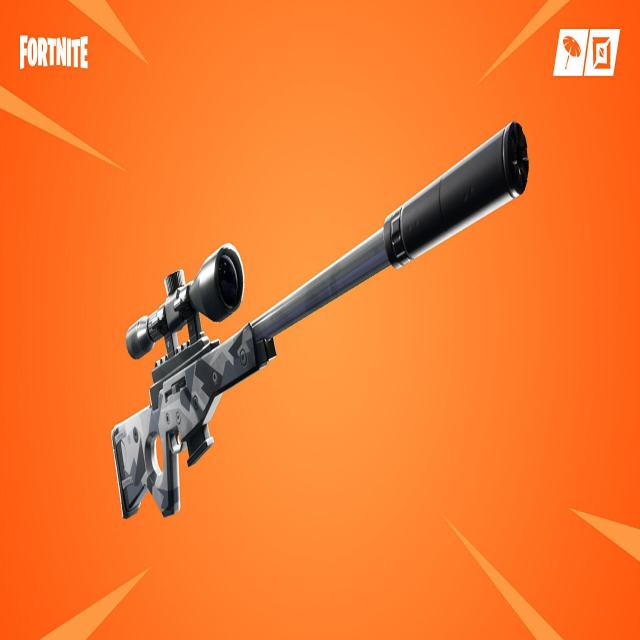weapon: (108, 113, 534, 550)
